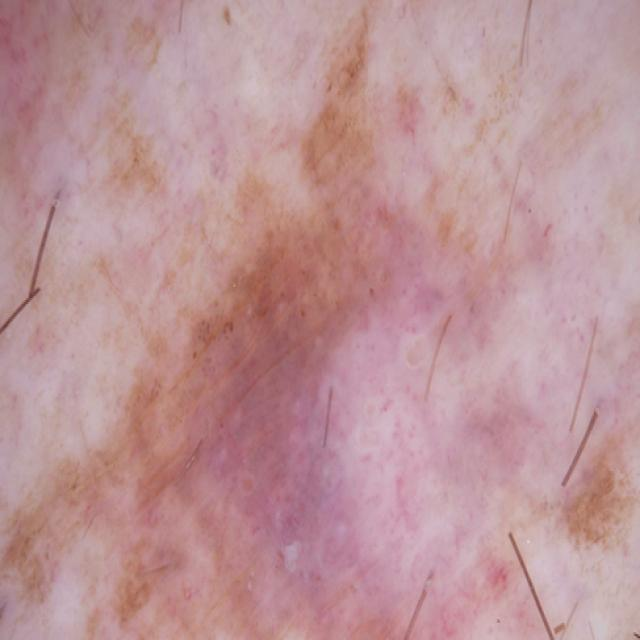Melanoma: (172, 89, 585, 640)
